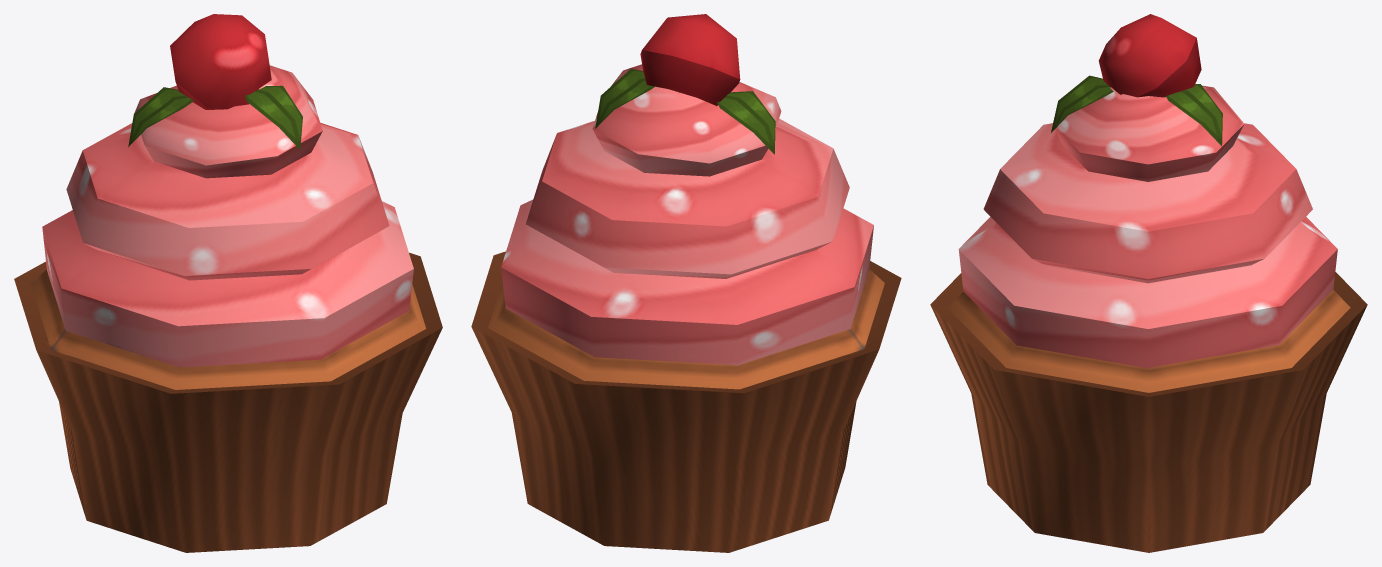
Rendered from cup cake.FBX.
3 views of the same model, side by side, from view 1: azimuth 30°, elevation 25°; view 2: azimuth 150°, elevation 25°; view 3: azimuth 270°, elevation 25° (orthographic).
Parts seen in each view (by area): view 1: cup cake; view 2: cup cake; view 3: cup cake.
Part boxes in pixels (x1=…): cup cake: x1=14, y1=14, x2=442, y2=552; cup cake: x1=471, y1=14, x2=901, y2=552; cup cake: x1=930, y1=14, x2=1367, y2=552.
Bounding box in the file's own units: 5.08 × 5.93 × 5.08.
